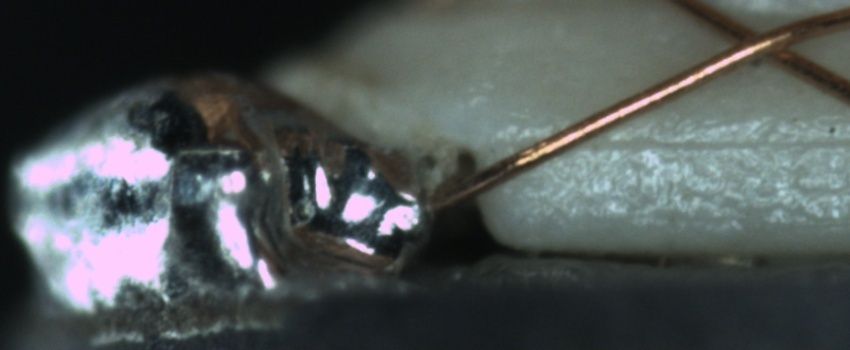CL: (704, 9, 814, 75)
DL: (544, 110, 847, 174)
